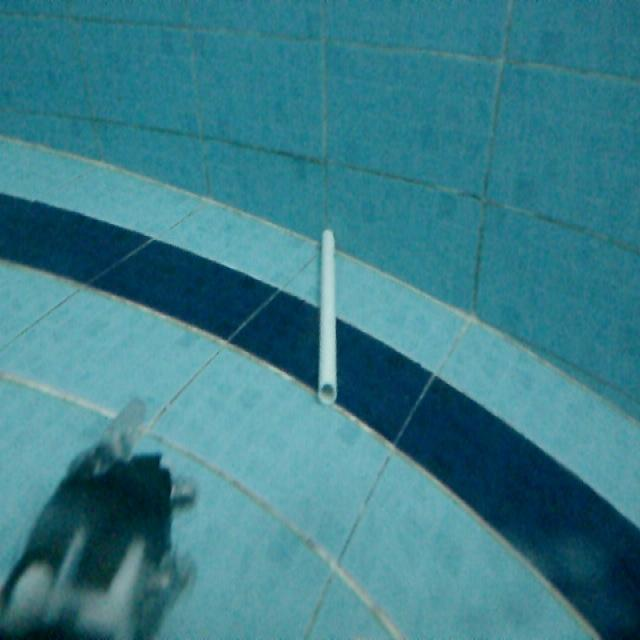Cube: (314, 224, 340, 407)
